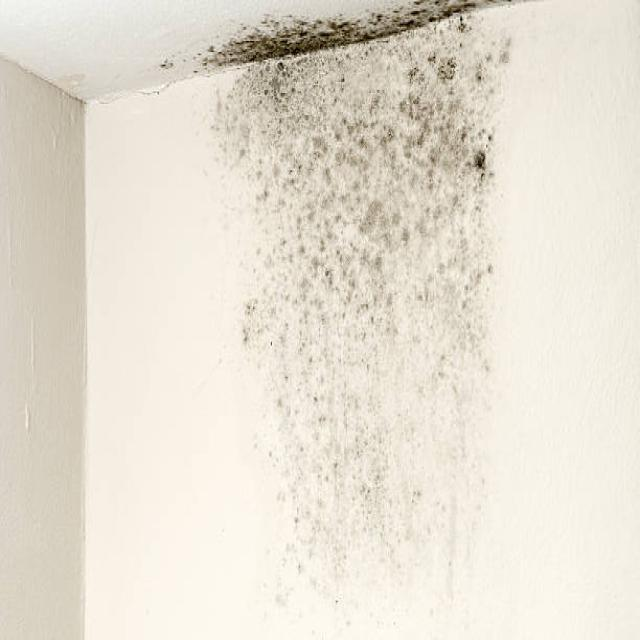stain_mould: (197, 1, 531, 601)
